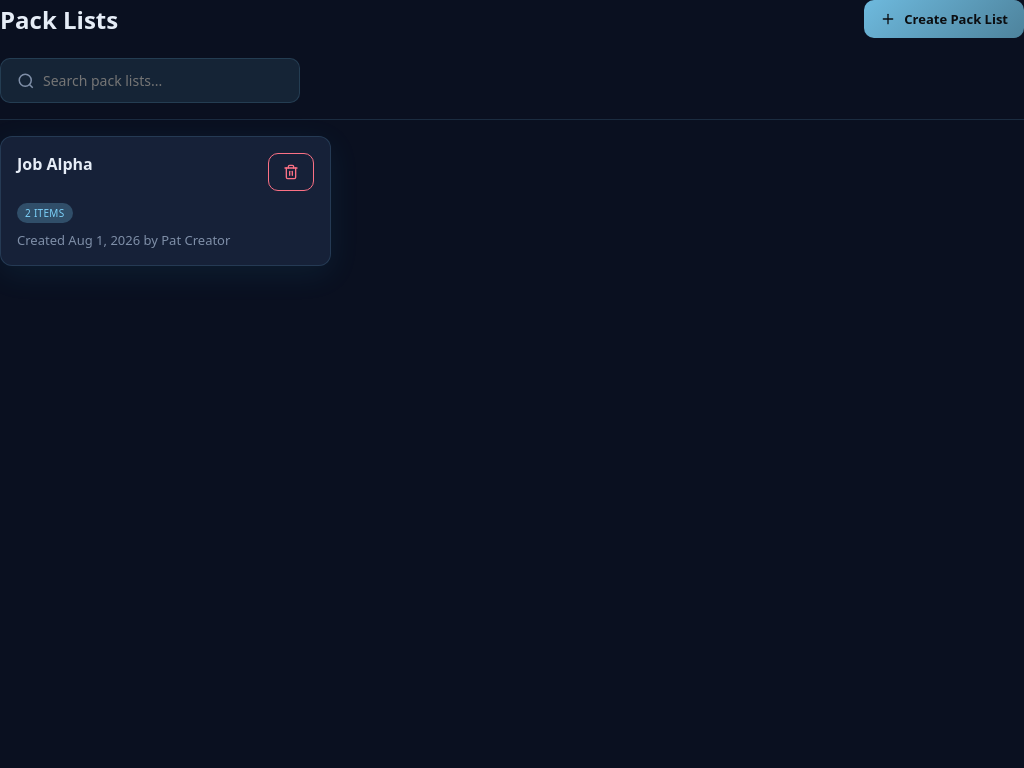
Test case: delete confirmation (shared dialog) › opens from the detail view with the same copy and deletes on confirm
The width and height of the screenshot is (1024, 768).
Click the heading "Job Alpha": (55, 164) [17,153,93,175]
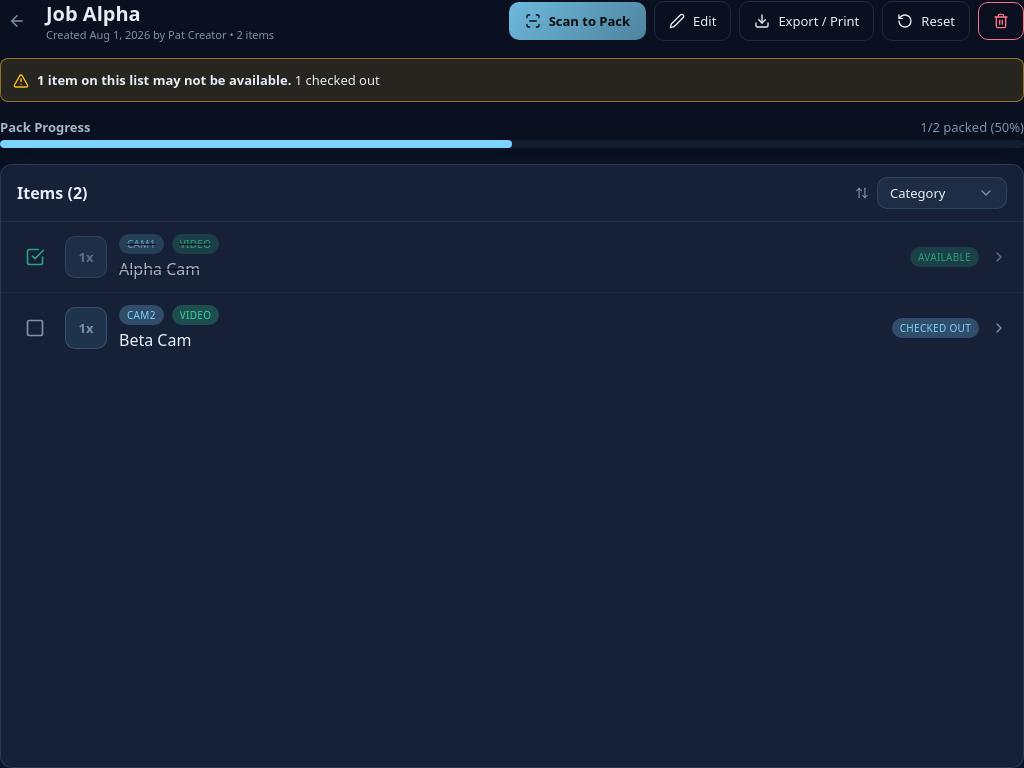
Click the button named "Delete Job Alpha": (1001, 21) [978,2,1023,40]
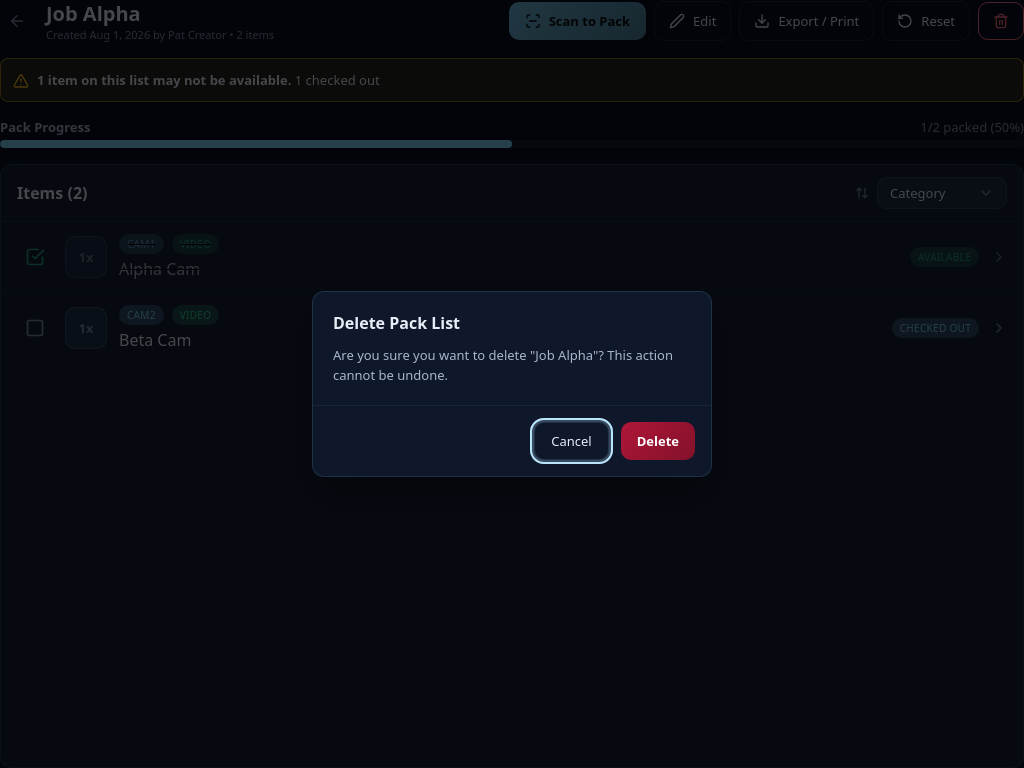
Check: the heading "Delete Pack List" is shown, box [333,312,460,334]
Check: the text "Are you sure you want to delete \"Job Alpha\"? This action cannot be undone." is shown, box [333,346,691,385]
Click the button "Delete": (658, 441) [621,422,695,460]
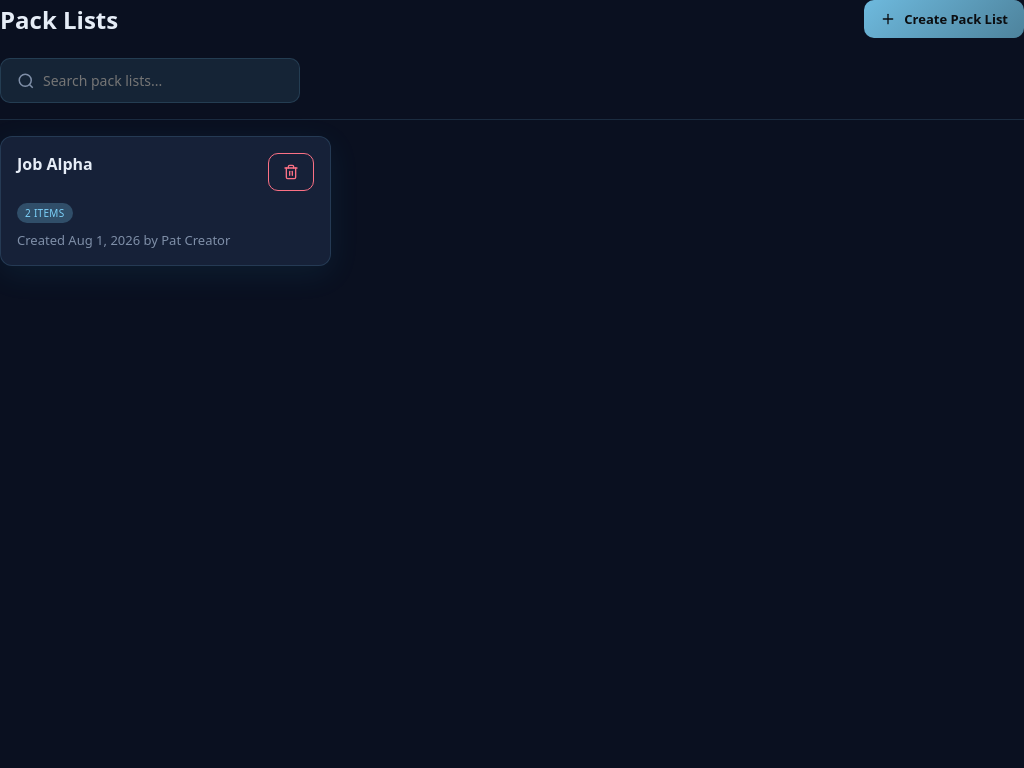
Check: the heading "Pack Lists" is shown, box [0,2,118,36]
